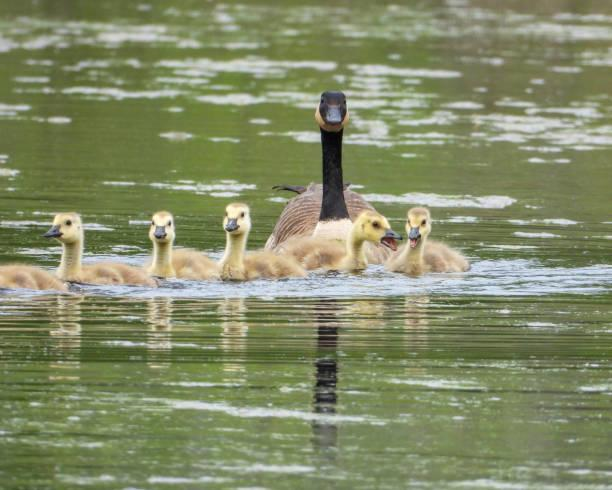Canadian-Goose: (267, 90, 393, 258), (47, 211, 137, 290), (287, 213, 392, 271), (142, 210, 216, 281), (397, 208, 467, 275), (221, 201, 275, 276), (0, 257, 62, 291)
